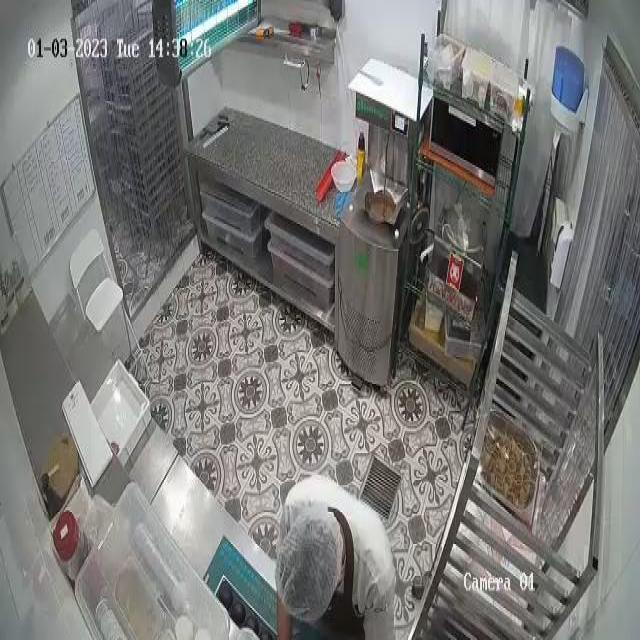hairnet: (282, 507, 341, 603)
